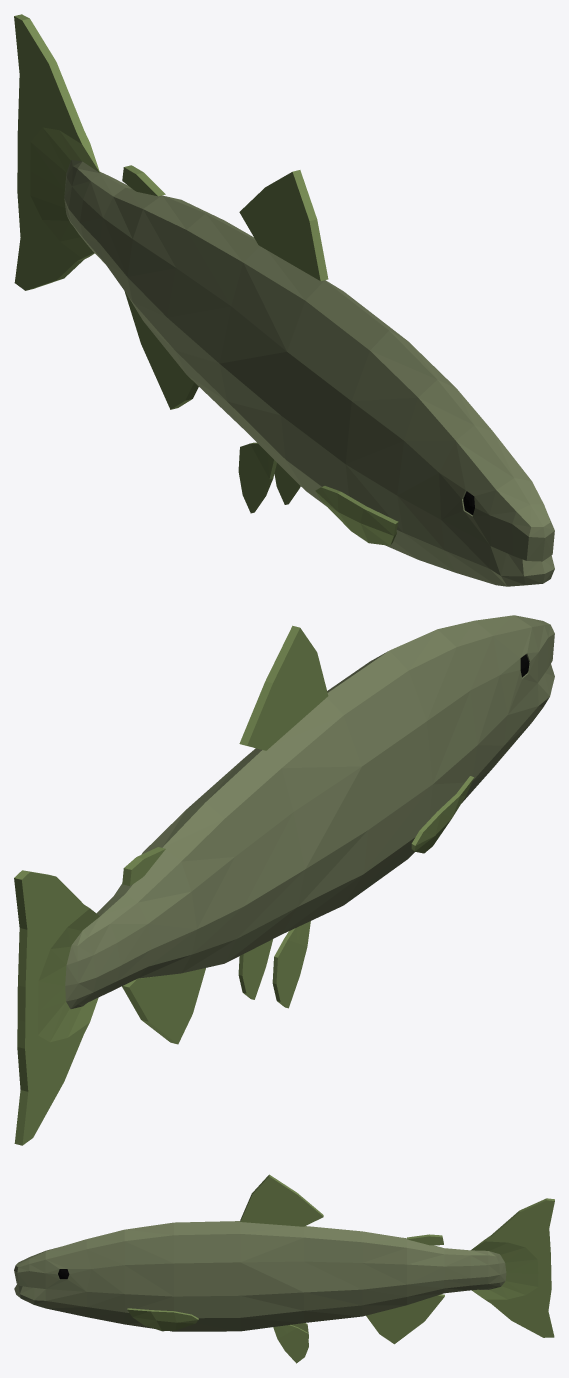
Rendered from Salmon.fbx.
The picture shows the model from 3 angles, top to bottom: view 1: azimuth 30°, elevation 25°; view 2: azimuth 150°, elevation 25°; view 3: azimuth 270°, elevation 25°; orthographic projection. The views are drawn at different scales.
Visible parts, largest first — view 1: TriangulatedSalmon, SalmonFin3, SalmonFin1, SalmonFin6, SalmonFin2, SalmonFin4, SalmonFin5; view 2: TriangulatedSalmon, SalmonFin3, SalmonFin1, SalmonFin2, SalmonFin6, SalmonFin4, SalmonFin5; view 3: TriangulatedSalmon, SalmonFin3, SalmonFin1, SalmonFin2, SalmonFin4, SalmonFin6, SalmonFin5.
Boxes of the visible parts, bbox=[...] form: TriangulatedSalmon: bbox=[64, 160, 554, 586]; SalmonFin3: bbox=[14, 14, 99, 290]; SalmonFin1: bbox=[239, 170, 328, 281]; SalmonFin6: bbox=[238, 442, 300, 513]; SalmonFin2: bbox=[124, 291, 198, 409]; SalmonFin4: bbox=[315, 486, 398, 545]; SalmonFin5: bbox=[122, 165, 165, 196]; TriangulatedSalmon: bbox=[65, 615, 554, 1008]; SalmonFin3: bbox=[14, 870, 99, 1145]; SalmonFin1: bbox=[239, 625, 328, 750]; SalmonFin2: bbox=[122, 968, 205, 1044]; SalmonFin6: bbox=[238, 921, 310, 1008]; SalmonFin4: bbox=[411, 776, 474, 853]; SalmonFin5: bbox=[122, 847, 165, 885]; TriangulatedSalmon: bbox=[14, 1221, 506, 1331]; SalmonFin3: bbox=[471, 1198, 554, 1337]; SalmonFin1: bbox=[240, 1174, 323, 1226]; SalmonFin2: bbox=[366, 1294, 444, 1344]; SalmonFin4: bbox=[127, 1308, 198, 1331]; SalmonFin6: bbox=[273, 1323, 308, 1363]; SalmonFin5: bbox=[407, 1234, 443, 1245].
Bounding box in the file's own units: 8.85 × 29.21 × 78.07.
